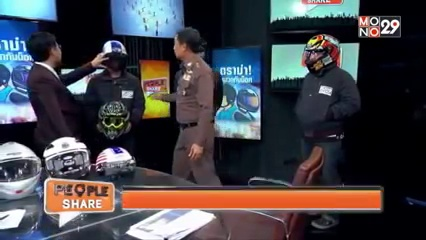helmet: (0, 135, 34, 198), (41, 133, 91, 175), (300, 29, 339, 71), (93, 144, 136, 174), (96, 97, 124, 135), (101, 36, 126, 72)
